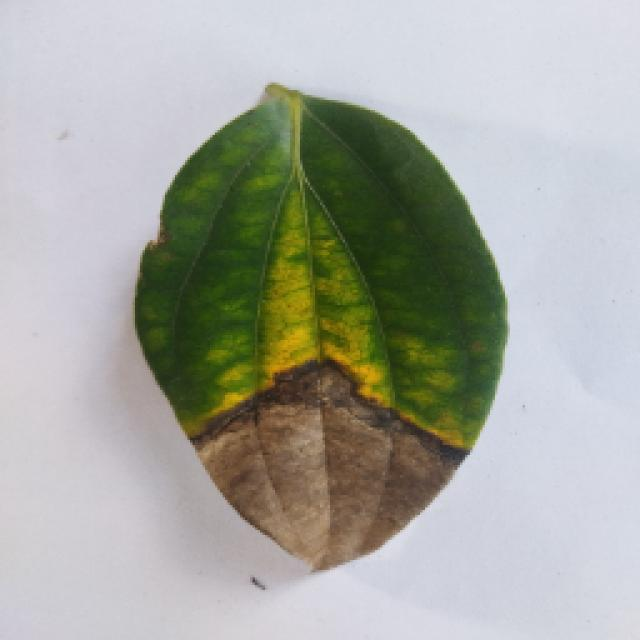footrot: (132, 85, 508, 575)
